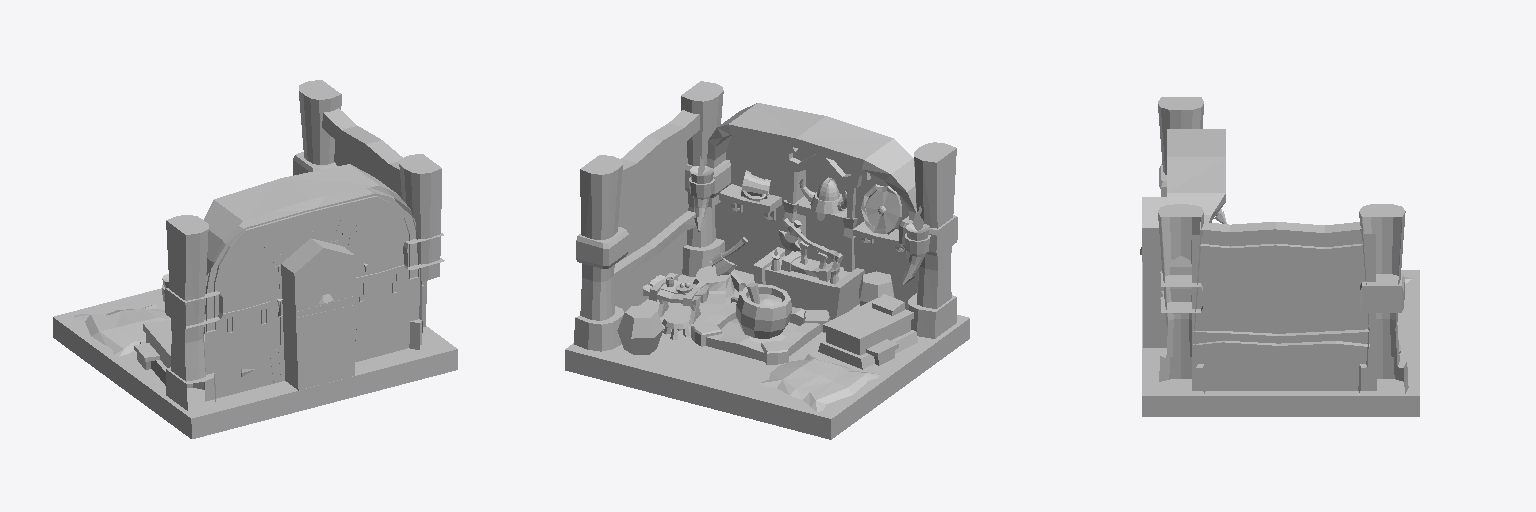
File: viking_room.obj
The picture shows the model from 3 angles: view 1: azimuth 30°, elevation 25°; view 2: azimuth 150°, elevation 25°; view 3: azimuth 270°, elevation 25°; orthographic projection.
Parts seen in each view (by area): view 1: mesh_all1_Texture1_0.003; view 2: mesh_all1_Texture1_0.003; view 3: mesh_all1_Texture1_0.003.
Boxes of the visible parts, box(x1,y1,x2,y2) form: mesh_all1_Texture1_0.003: box(53, 80, 457, 438); mesh_all1_Texture1_0.003: box(565, 81, 969, 439); mesh_all1_Texture1_0.003: box(1140, 97, 1419, 416).
Bounding box in the file's own units: 1.46 × 1.05 × 1.33.